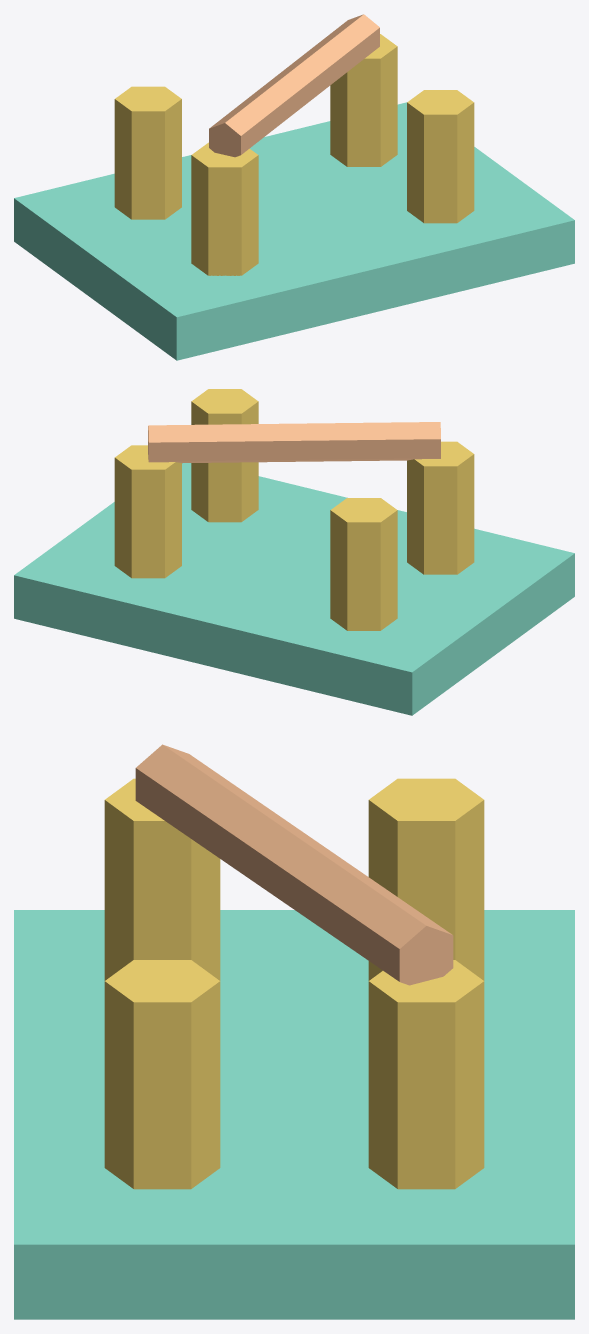
3 views of the same model, one above another, from view 1: azimuth 30°, elevation 25°; view 2: azimuth 150°, elevation 25°; view 3: azimuth 270°, elevation 25° (orthographic). The views are drawn at different scales.
Parts seen in each view (by area): view 1: Assembly board, Connection peg.001, Connection peg.002, Connection peg, Cross member, Connection peg.003; view 2: Assembly board, Cross member, Connection peg.001, Connection peg.003, Connection peg, Connection peg.002; view 3: Assembly board, Connection peg.002, Cross member, Connection peg.003, Connection peg, Connection peg.001.
Part boxes in pixels (bbox=[...]): Assembly board: bbox=[14, 102, 574, 360]; Connection peg.001: bbox=[114, 86, 181, 219]; Connection peg.002: bbox=[407, 90, 474, 223]; Connection peg: bbox=[191, 142, 258, 275]; Cross member: bbox=[209, 14, 379, 157]; Connection peg.003: bbox=[330, 34, 397, 166]; Assembly board: bbox=[14, 463, 574, 715]; Cross member: bbox=[148, 422, 440, 463]; Connection peg.001: bbox=[330, 498, 397, 630]; Connection peg.003: bbox=[114, 445, 181, 578]; Connection peg: bbox=[407, 441, 474, 574]; Connection peg.002: bbox=[191, 389, 258, 522]; Assembly board: bbox=[14, 910, 574, 1319]; Connection peg.002: bbox=[104, 960, 220, 1189]; Cross member: bbox=[135, 744, 453, 985]; Connection peg.003: bbox=[368, 960, 484, 1189]; Connection peg: bbox=[104, 778, 220, 980]; Connection peg.001: bbox=[368, 778, 484, 980].
Bounding box in the file's own units: 48 × 21.2 × 34.
